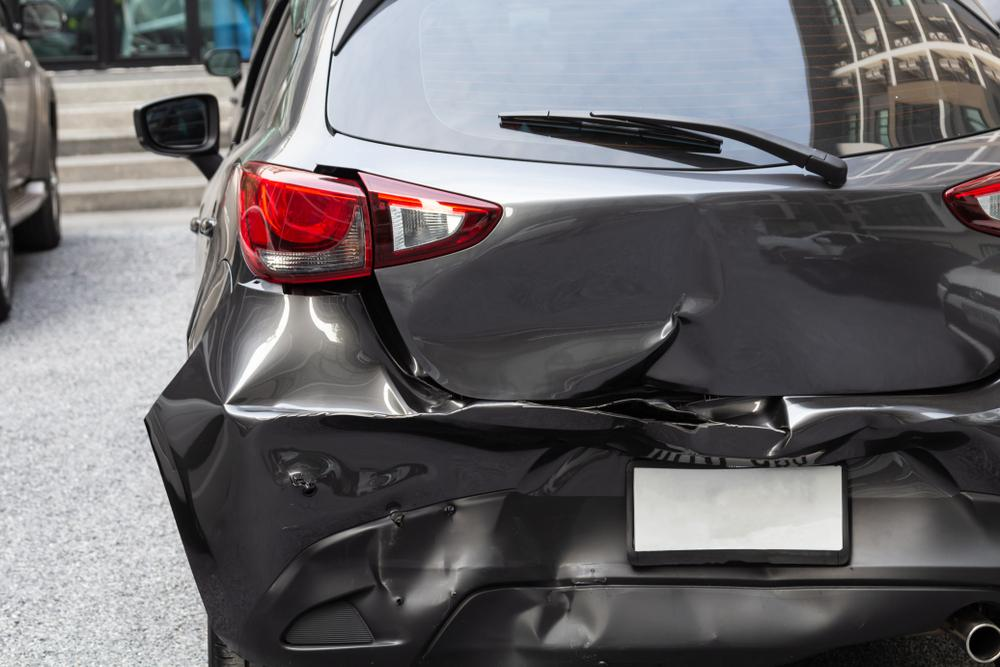dent: (224, 349, 996, 654), (412, 198, 994, 397)
